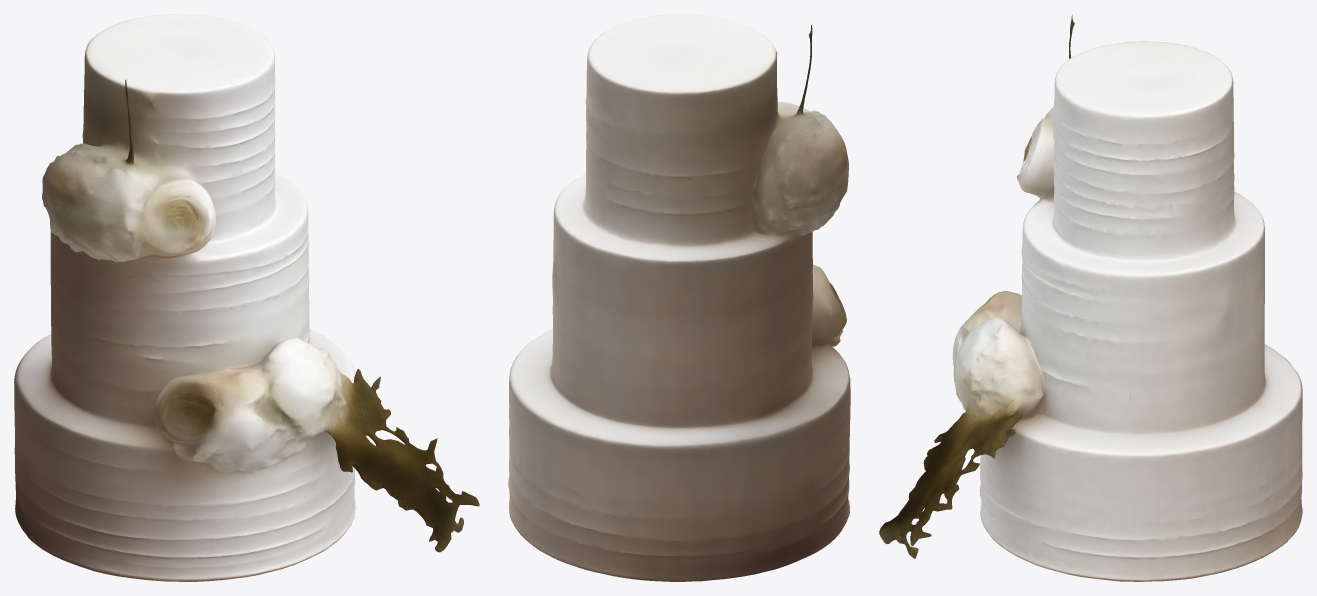
File: cake.glb
3 renders of one model, left to right at view 1: azimuth 30°, elevation 25°; view 2: azimuth 150°, elevation 25°; view 3: azimuth 270°, elevation 25°, orthographic. The views are drawn at different scales.
Visible parts, largest first — view 1: Mesh; view 2: Mesh; view 3: Mesh.
Boxes of the visible parts, x1,y1,x2,y2 form: Mesh: [14, 14, 479, 581]; Mesh: [508, 14, 850, 581]; Mesh: [879, 14, 1302, 581].
Size of the model in its own units: 1.3 by 1.88 by 1.57.
1 material, 1 textured.
